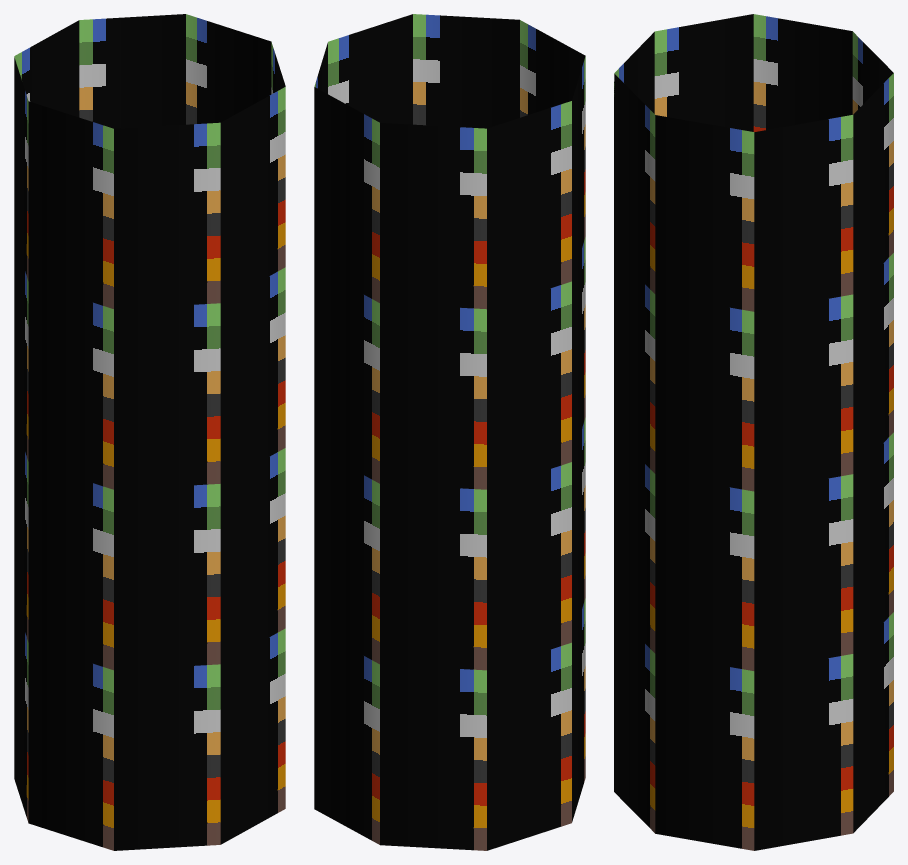
The picture shows the model from 3 angles, left to right: view 1: azimuth 30°, elevation 25°; view 2: azimuth 150°, elevation 25°; view 3: azimuth 270°, elevation 25°; orthographic projection.
Visible parts, largest first — view 1: Tentacle.004; view 2: Tentacle.004; view 3: Tentacle.004.
Part boxes in pixels (left/top/right/bottom): Tentacle.004: left=14, top=14, right=285, bottom=850; Tentacle.004: left=314, top=14, right=585, bottom=850; Tentacle.004: left=614, top=14, right=893, bottom=850.
Size of the model in its own units: 0.5519 by 1.57 by 0.5519.
1 material, 1 textured.
